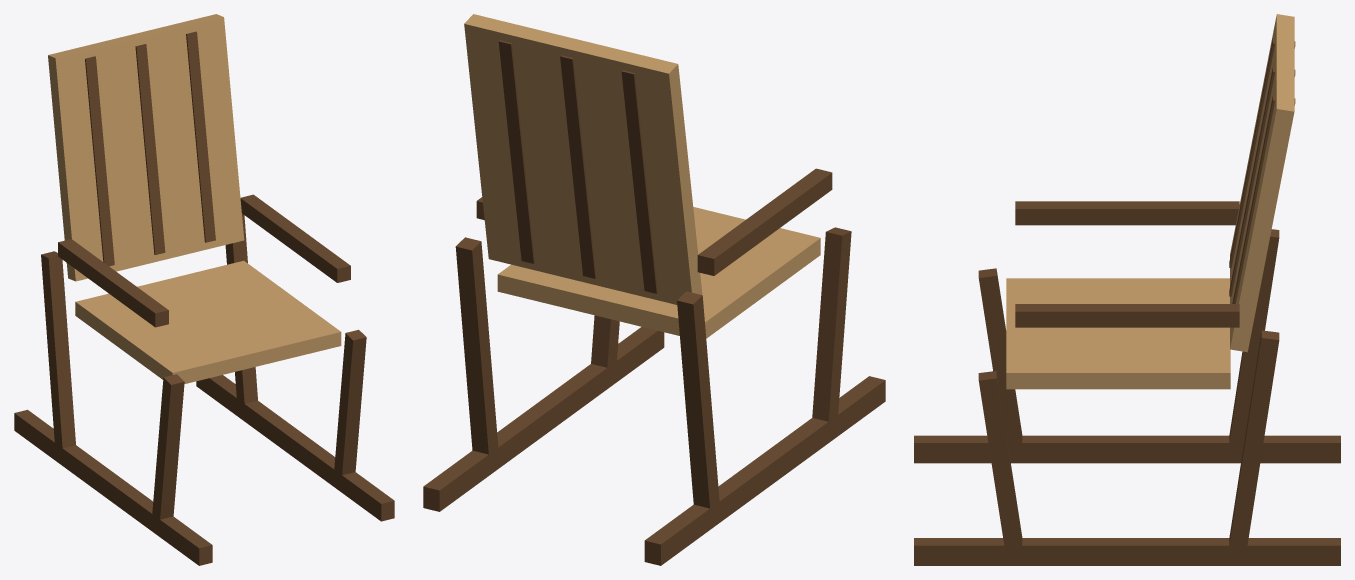
File: GH_RockingChair_01.glb
3 views of the same model, side by side, from view 1: azimuth 30°, elevation 25°; view 2: azimuth 150°, elevation 25°; view 3: azimuth 270°, elevation 25° (orthographic). The views are drawn at different scales.
Visible parts, largest first — view 1: GH_RockingChair_01; view 2: GH_RockingChair_01; view 3: GH_RockingChair_01.
Boxes of the visible parts, x1,y1,x2,y2 form: GH_RockingChair_01: (14,14,394,565); GH_RockingChair_01: (423,14,885,565); GH_RockingChair_01: (914,14,1340,565).
Size of the model in its own units: 0.58 by 1.1 by 0.95.
Materials: 1 (1 with a texture image).
